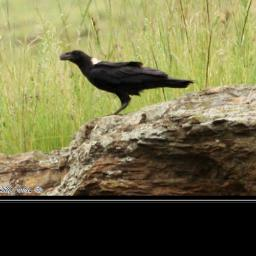Crow: (58, 49, 195, 116)
